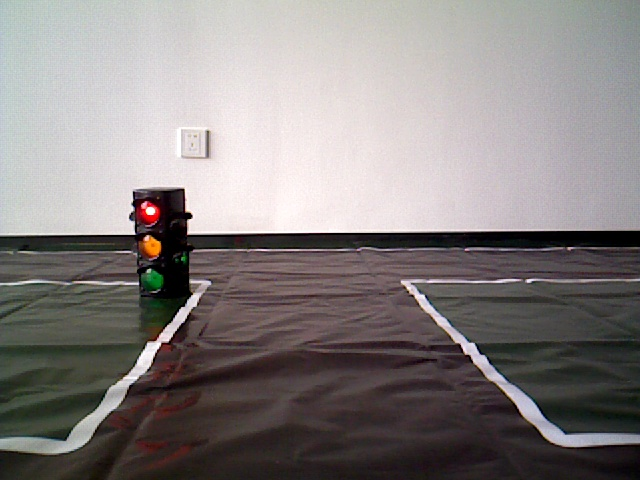red: (132, 190, 185, 299)
